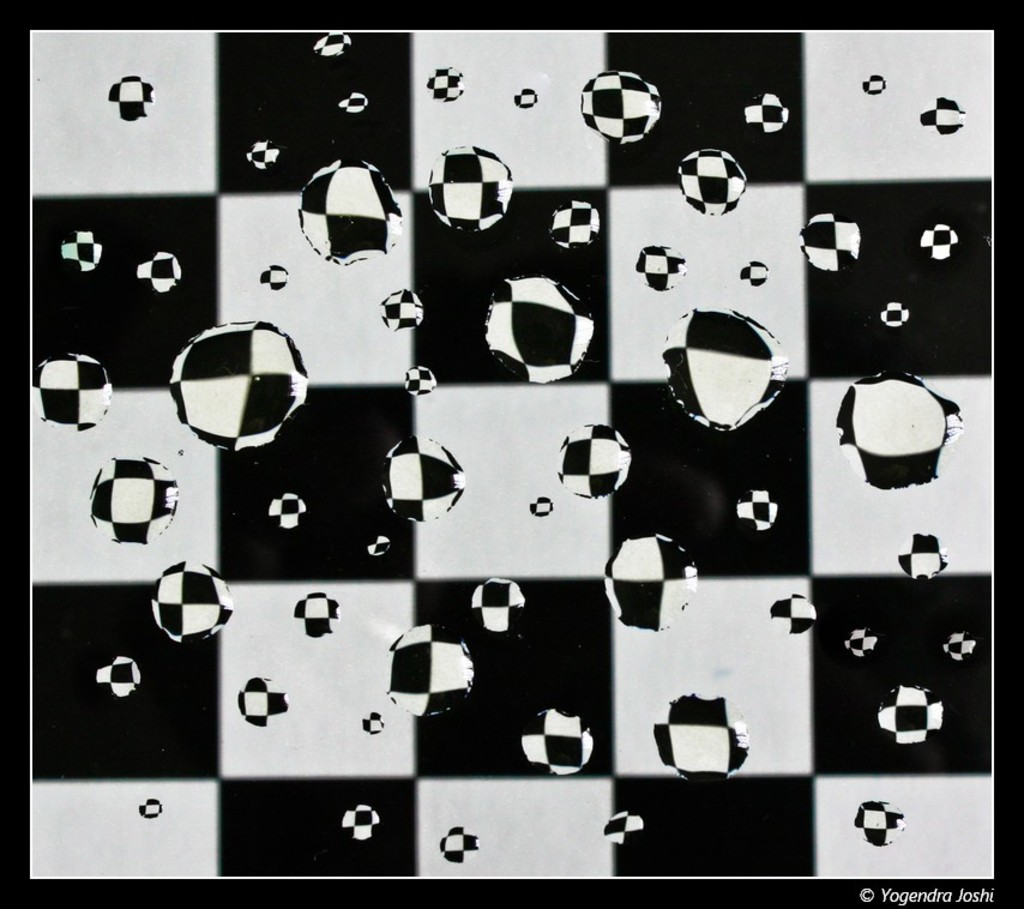Ball: (32, 35, 984, 862)
